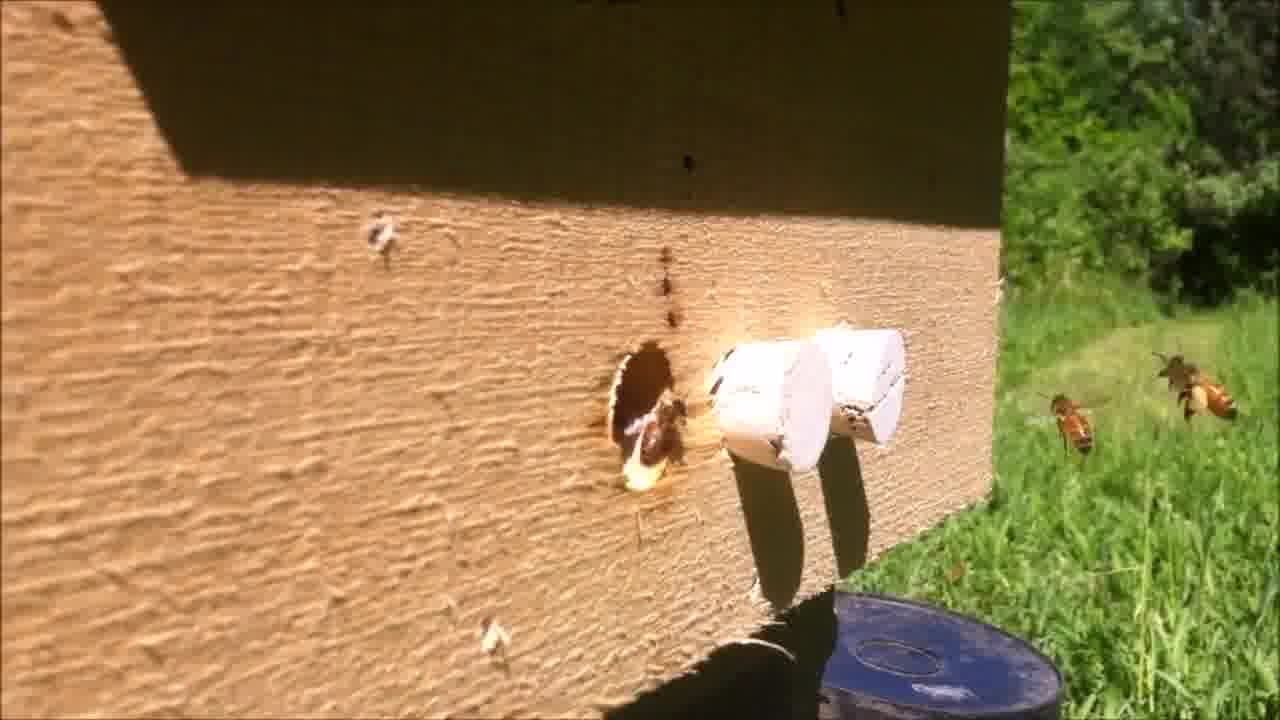pollen: (1158, 355, 1245, 424)
